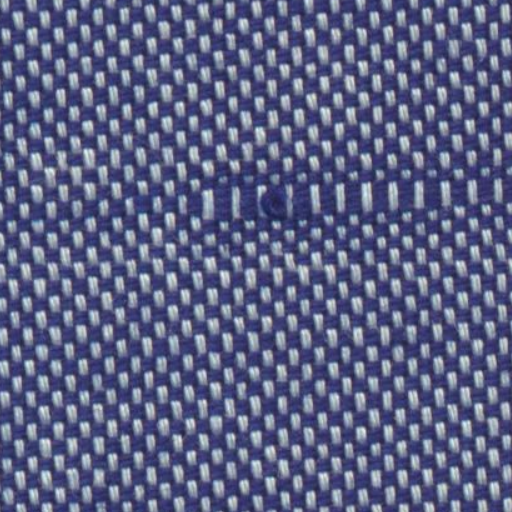DaiSha: (186, 158, 496, 234)
